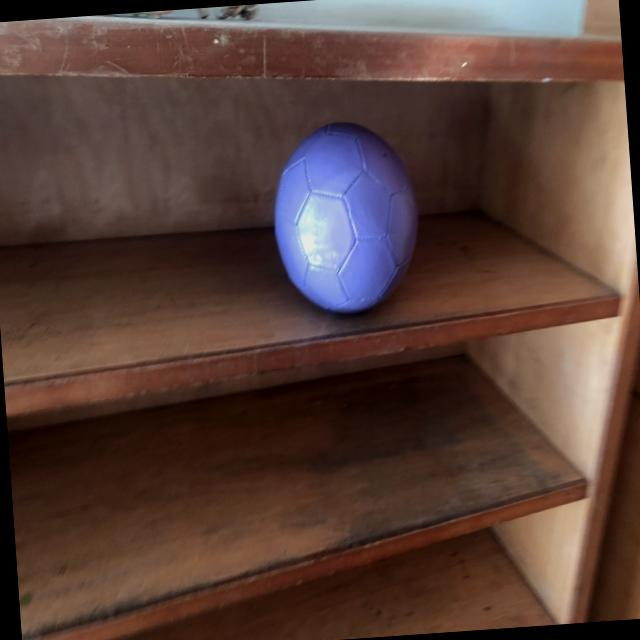purple_ball: (264, 119, 426, 316)
